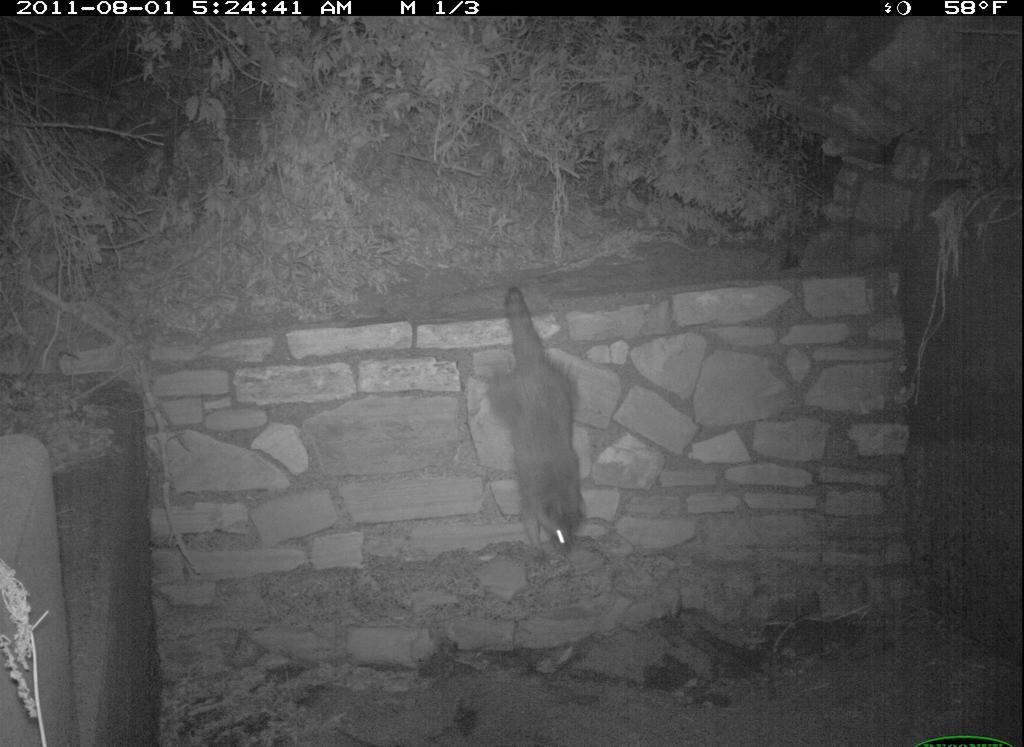raccoon: (461, 246, 638, 574)
